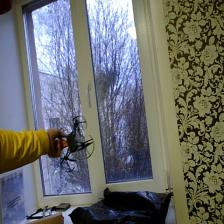drone: (53, 110, 96, 174)
